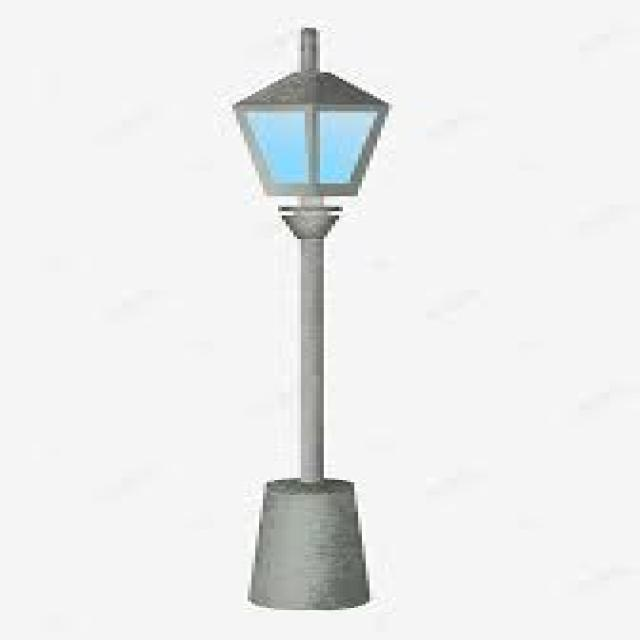Street Light: (232, 28, 385, 608)
